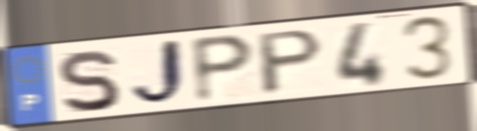3: (400, 13, 455, 83)
4: (333, 19, 389, 89)
J: (127, 36, 188, 110)
P: (189, 32, 258, 106), (257, 26, 326, 98)
S: (54, 48, 122, 116)
